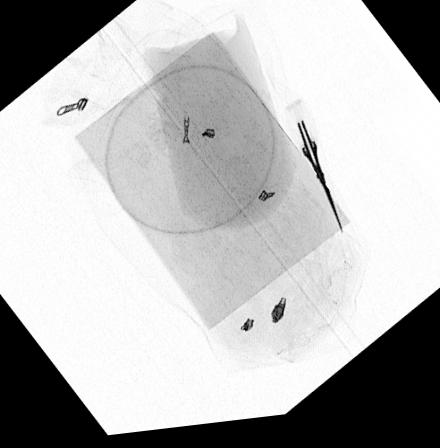Scissors: (280, 101, 342, 240)
